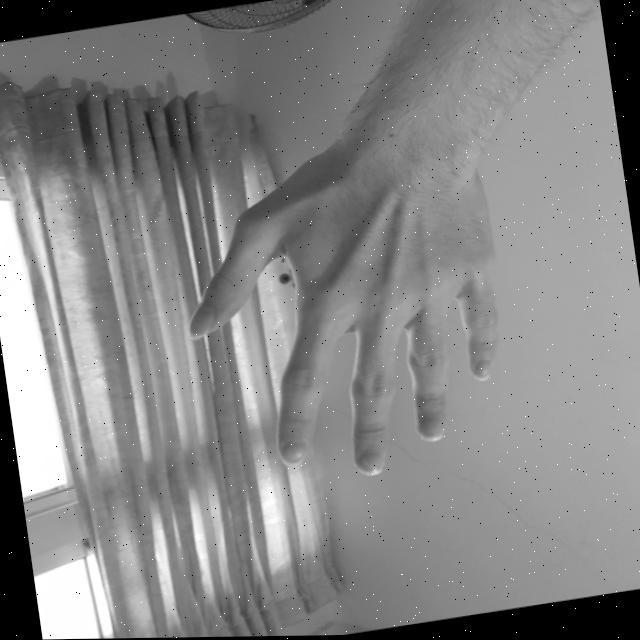no-gloves: (164, 145, 522, 503)
